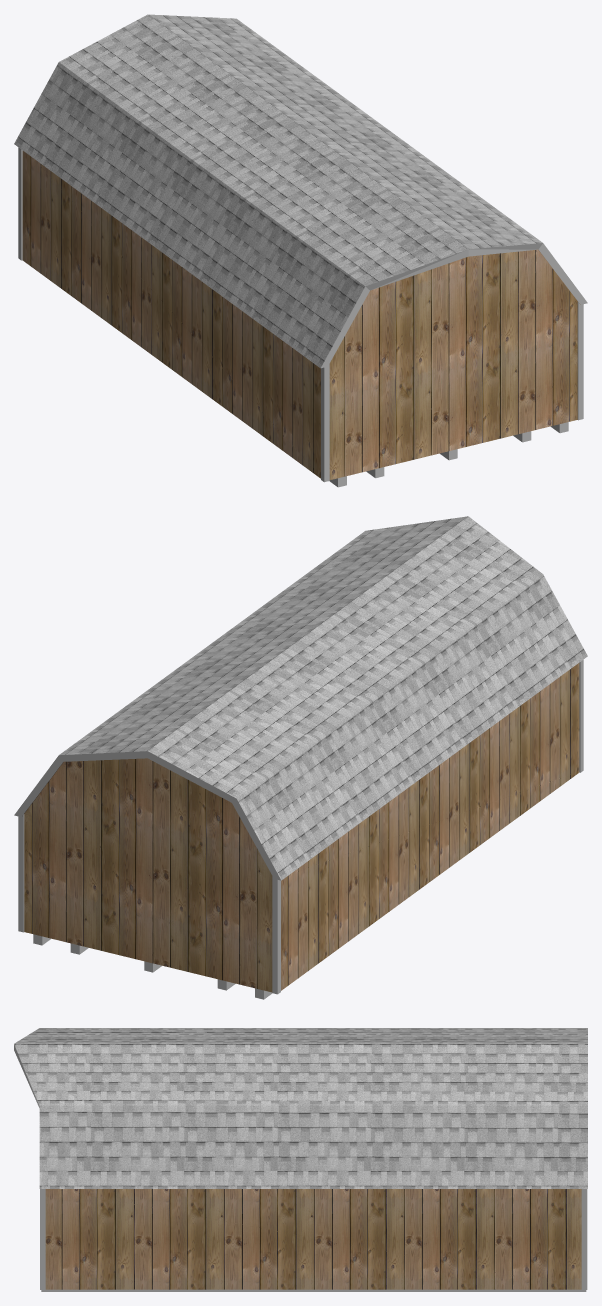
The model's file is Mini Barn Sheds_10x20.obj.
The picture shows the model from 3 angles, top to bottom: view 1: azimuth 30°, elevation 25°; view 2: azimuth 150°, elevation 25°; view 3: azimuth 270°, elevation 25°; orthographic projection. The views are drawn at different scales.
Visible parts, largest first — view 1: Roof, Shed, Sides, Trim, Floor; view 2: Roof, Shed, Sides, Trim, Floor; view 3: Roof, Shed, Floor, Trim.
Part boxes in pixels (left/top/right/bottom): Roof: left=14, top=14, right=542, bottom=367; Shed: left=22, top=151, right=580, bottom=479; Sides: left=321, top=243, right=587, bottom=368; Trim: left=18, top=147, right=583, bottom=482; Floor: left=329, top=422, right=568, bottom=487; Roof: left=59, top=516, right=587, bottom=880; Shed: left=24, top=663, right=579, bottom=992; Sides: left=14, top=751, right=280, bottom=880; Trim: left=18, top=659, right=583, bottom=994; Floor: left=33, top=934, right=272, bottom=999; Roof: left=14, top=1028, right=587, bottom=1188; Shed: left=45, top=1189, right=581, bottom=1289; Floor: left=41, top=1289, right=586, bottom=1291; Trim: left=40, top=1189, right=587, bottom=1289.
Bounding box in the file's own units: 3.09 × 2.44 × 6.42.
